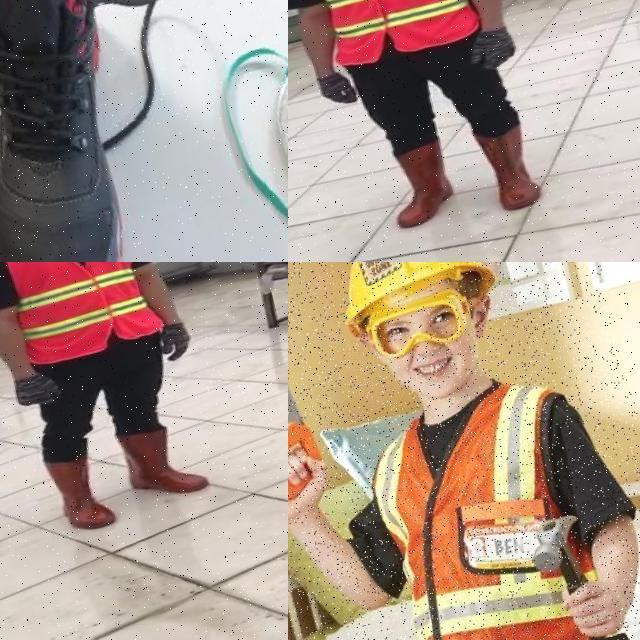boots: (0, 0, 213, 262), (110, 410, 224, 510), (39, 445, 117, 541), (378, 138, 459, 230), (472, 120, 550, 214)
helmet: (320, 262, 507, 343)
vest: (355, 373, 640, 640), (0, 262, 166, 371), (288, 0, 485, 76)
